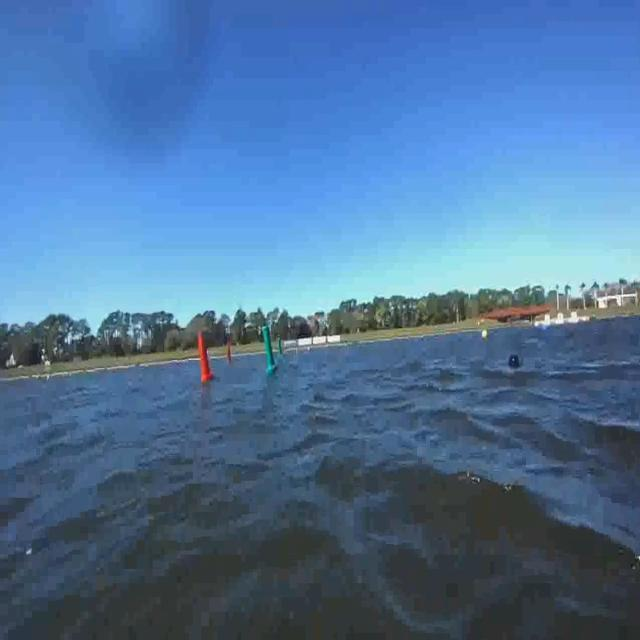black-buoy: (508, 350, 523, 370)
green-column-buoy: (264, 325, 279, 372), (278, 339, 283, 358)
red-column-buoy: (197, 331, 215, 383), (225, 342, 232, 362)
yellow-buoy: (482, 327, 490, 341)
